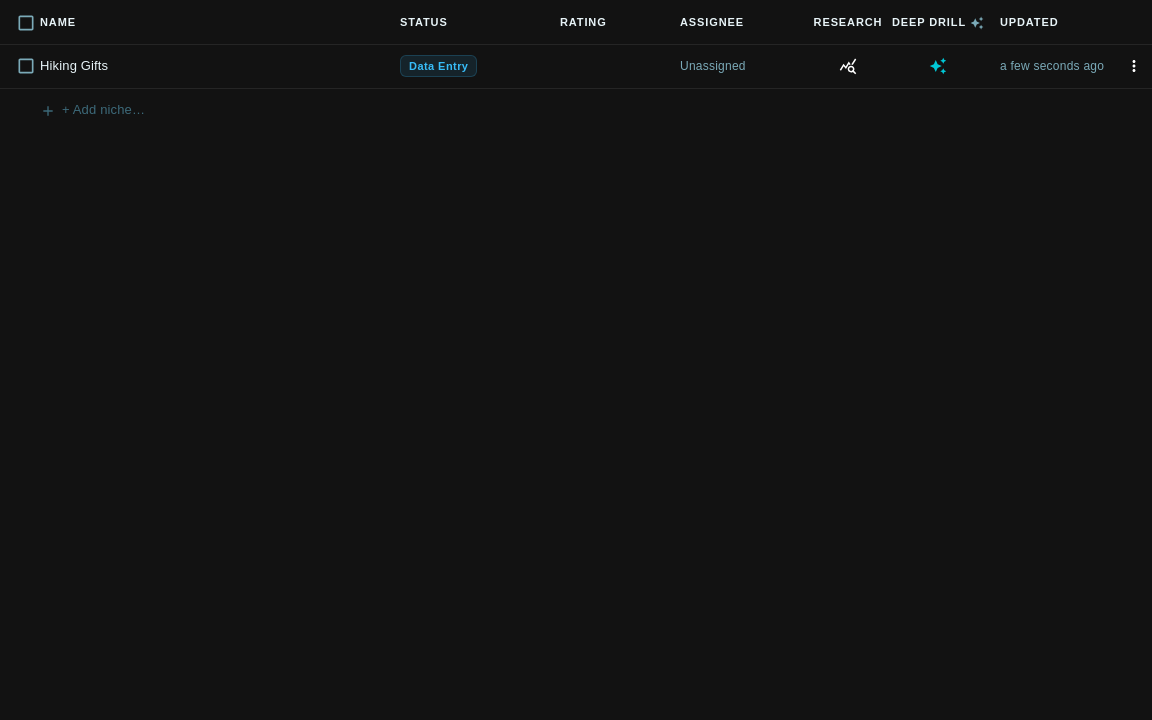
Test: NicheTable › opens archive confirmation dialog when Archive menu item is clicked
The image size is (1152, 720).
Click the button named "actions": (1134, 66) [1120, 52, 1148, 80]
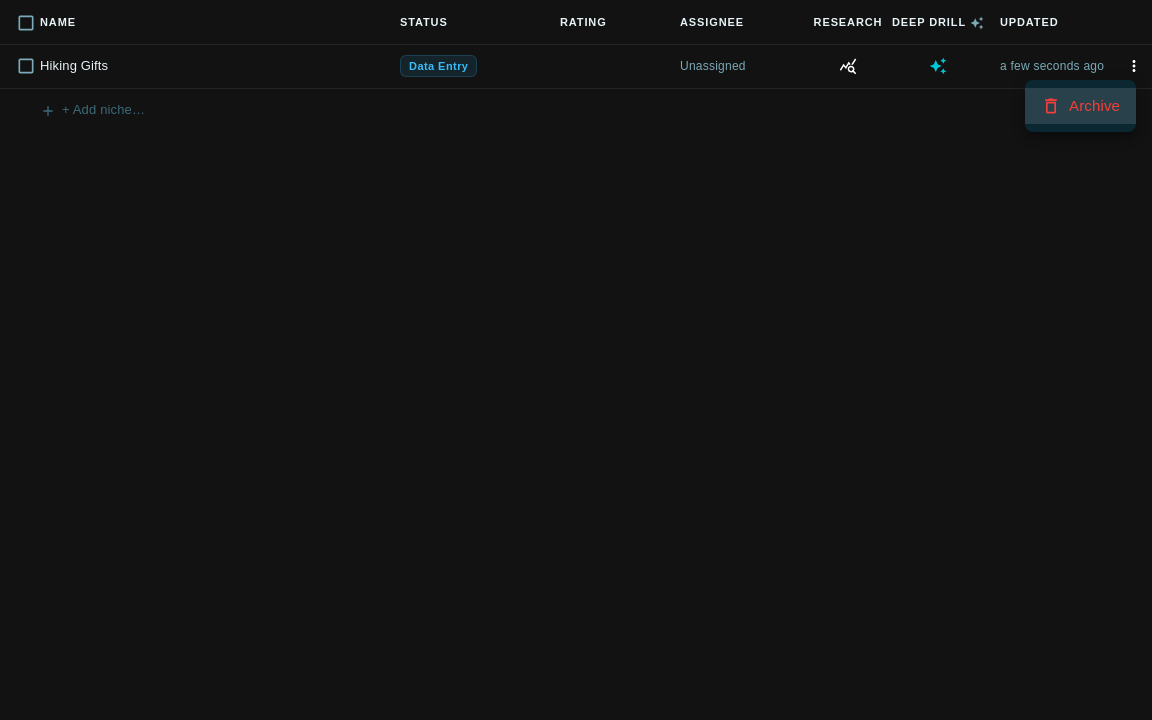
Click the menu item "Archive": (1081, 106) [1025, 88, 1136, 124]
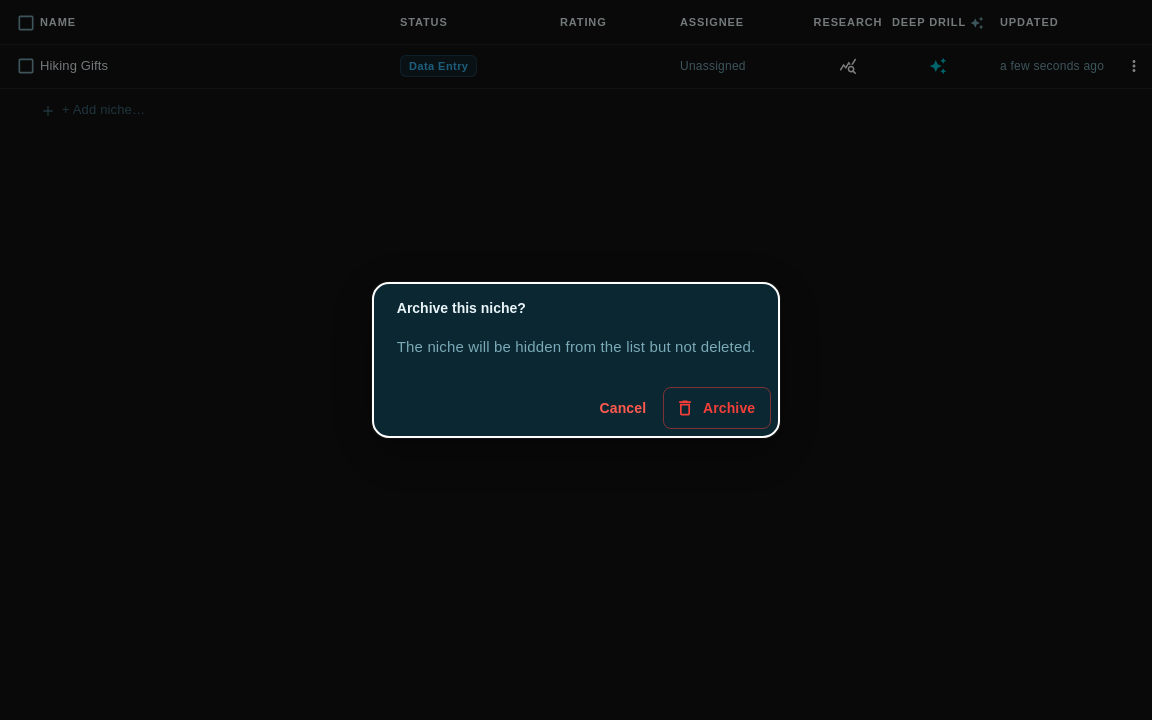
Check: the dialog is shown, box [373, 283, 779, 437]
Check: the heading "Archive this niche?" is shown, box [397, 300, 526, 316]
